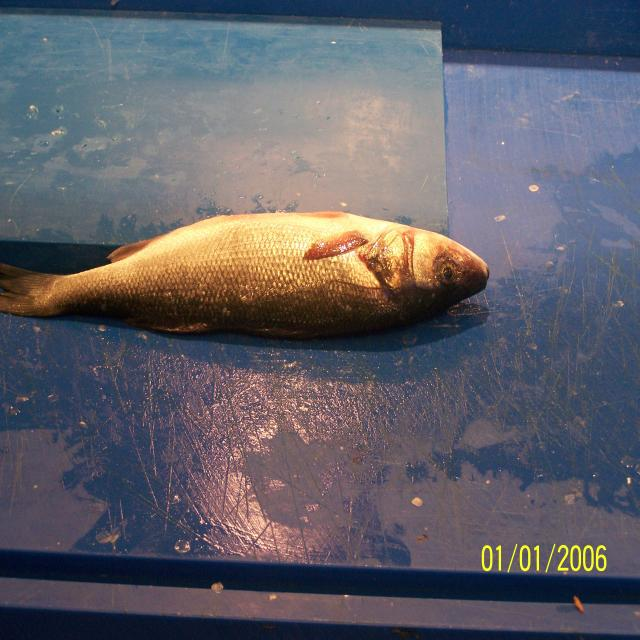Sea-Bass-levrek-: (0, 212, 490, 343)
